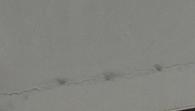fissura: (2, 61, 195, 101)
